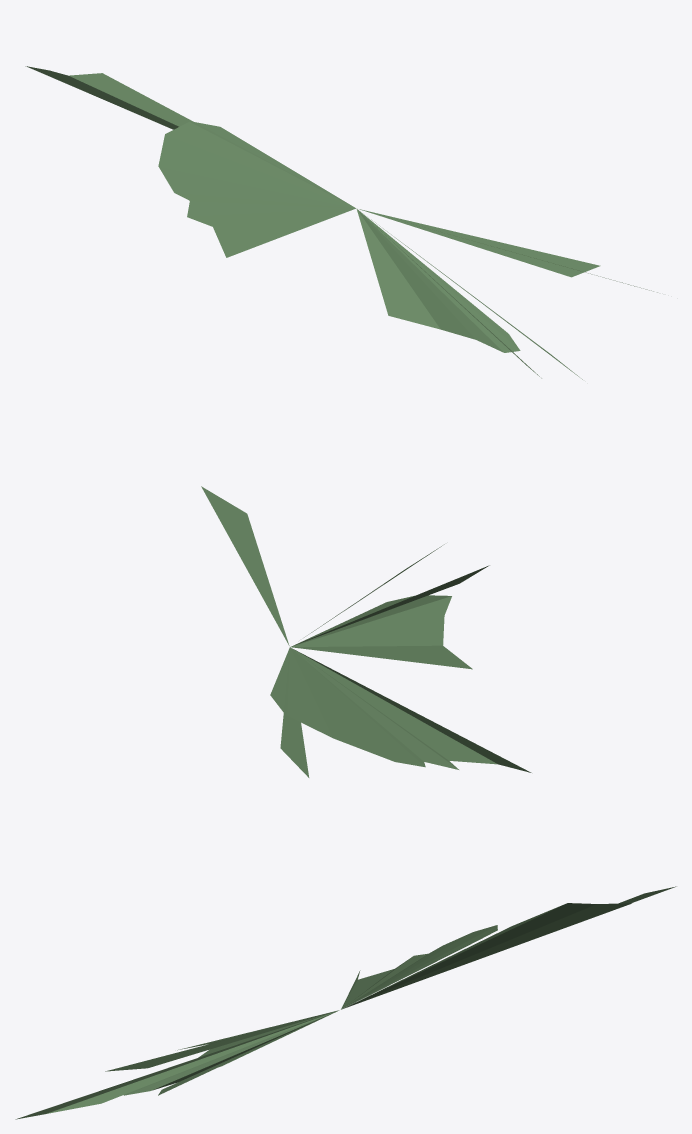
File: c_1671_17815_forest.glb
3 renders of one model, top to bottom at view 1: azimuth 30°, elevation 25°; view 2: azimuth 150°, elevation 25°; view 3: azimuth 270°, elevation 25°, orthographic. The views are drawn at different scales.
Visible parts, largest first — view 1: geometry_0; view 2: geometry_0; view 3: geometry_0.
Boxes of the visible parts, x1,y1,x2,y2 form: geometry_0: [25, 66, 657, 379]; geometry_0: [201, 486, 531, 777]; geometry_0: [15, 886, 676, 1119].
Bounding box in the file's own units: 252 × 129 × 447.
